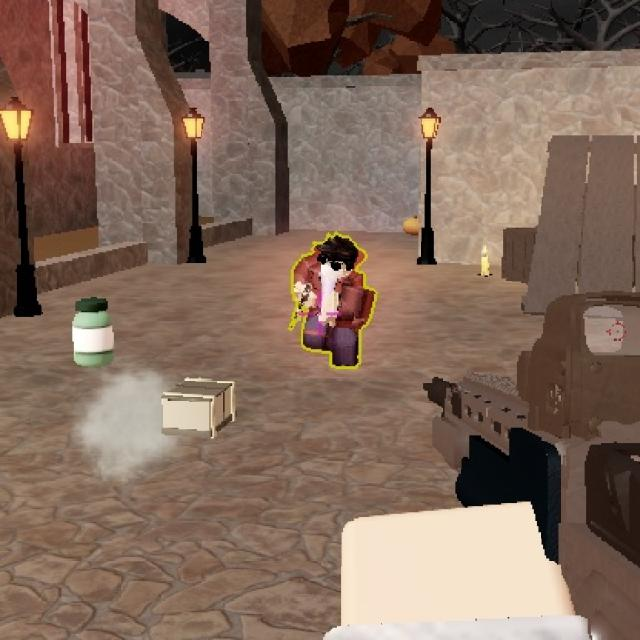player: (312, 230, 360, 373)
